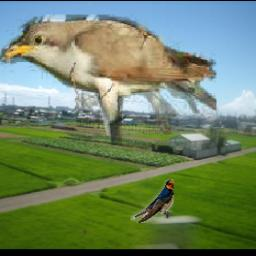Cuckoo: (0, 16, 216, 146)
Swallow: (132, 180, 175, 224)
